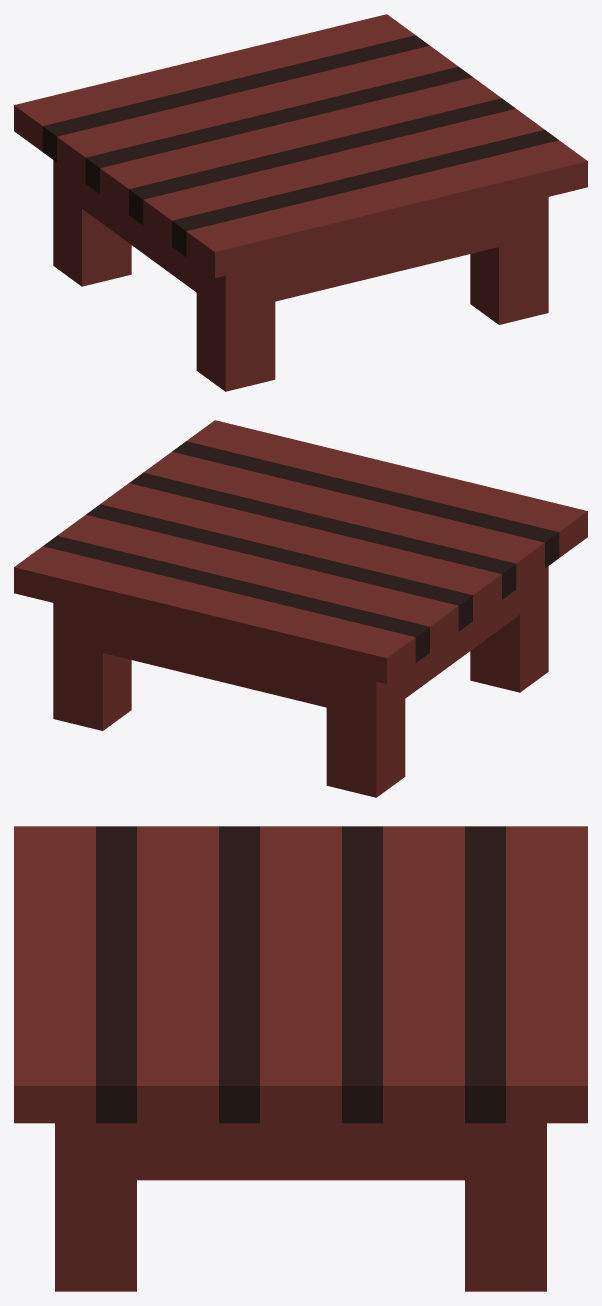
Rendered from small_table_b.obj.
The picture shows the model from 3 angles, top to bottom: view 1: azimuth 30°, elevation 25°; view 2: azimuth 150°, elevation 25°; view 3: azimuth 270°, elevation 25°; orthographic projection. The views are drawn at different scales.
Bounding box in the file's own units: 1.5 × 0.6 × 1.4.
1 material, 1 textured.
